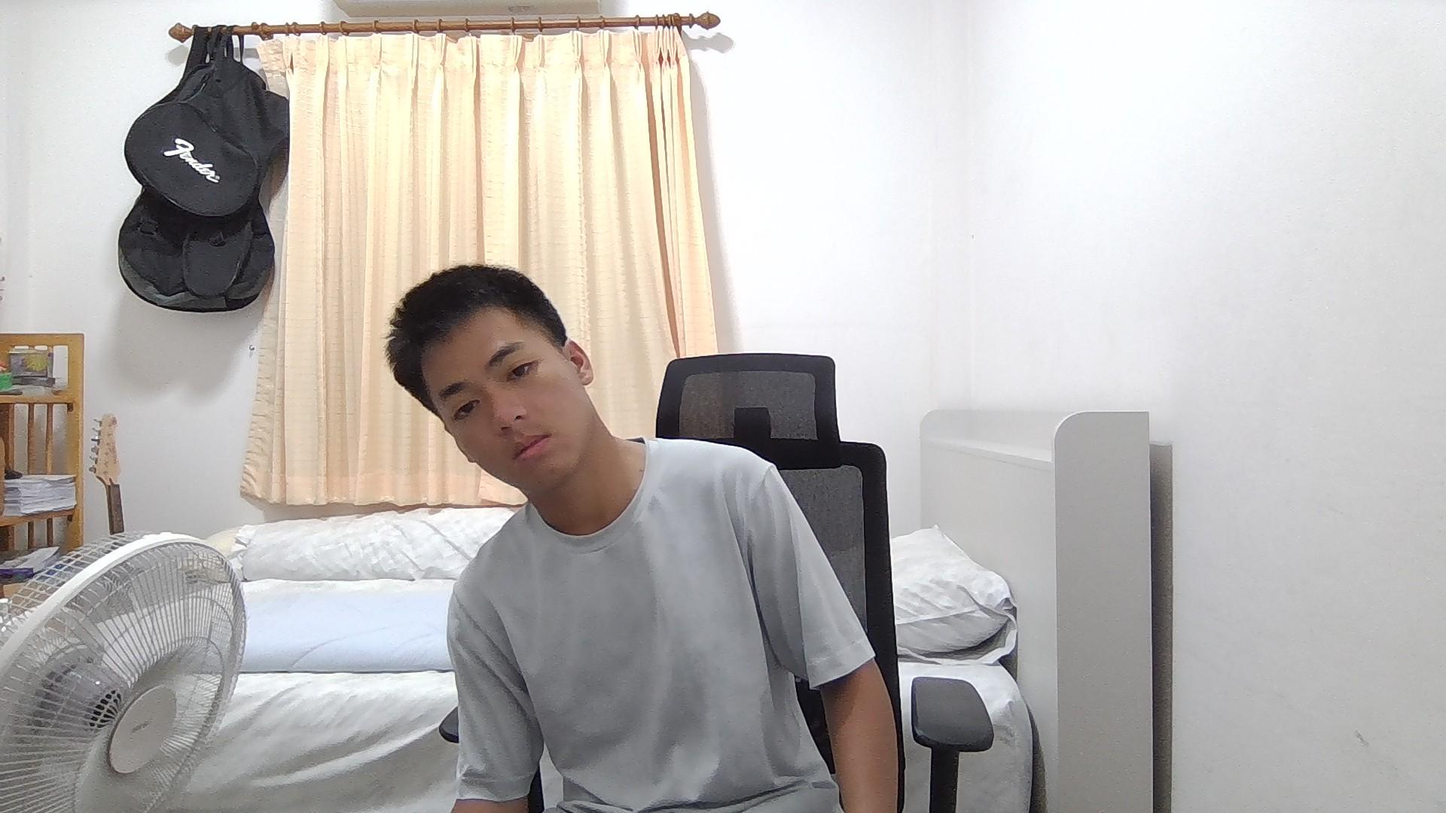BadPosture: (389, 266, 898, 812)
